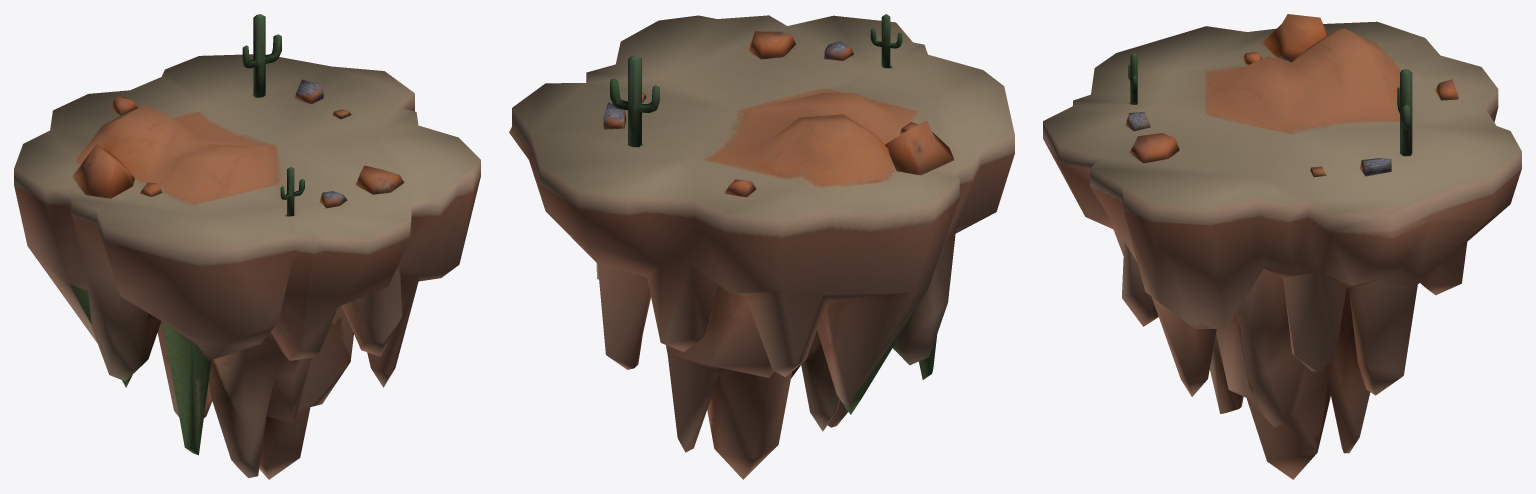
File: tripo_convert_39455fa5-fece-4dd4-ada9-77e8f4da42c9.fbx
The picture shows the model from 3 angles, left to right: view 1: azimuth 30°, elevation 25°; view 2: azimuth 150°, elevation 25°; view 3: azimuth 270°, elevation 25°; orthographic projection. The views are drawn at different scales.
Parts seen in each view (by area): view 1: tripo_node_39455fa5; view 2: tripo_node_39455fa5; view 3: tripo_node_39455fa5.
Boxes of the visible parts, x1,y1,x2,y2 form: tripo_node_39455fa5: (14,14,480,479); tripo_node_39455fa5: (509,14,1014,479); tripo_node_39455fa5: (1043,14,1521,479).
Bounding box in the file's own units: 0.9551 × 0.998 × 0.998.
1 material, 1 textured.
